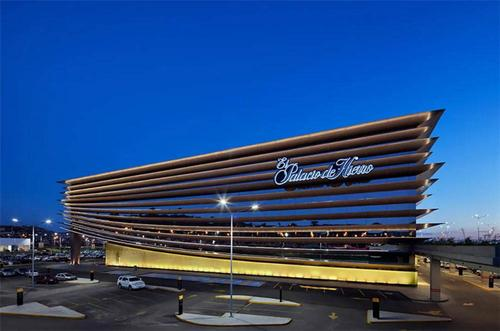buildings: (52, 111, 469, 237)
sky_cloud: (0, 35, 500, 147)
